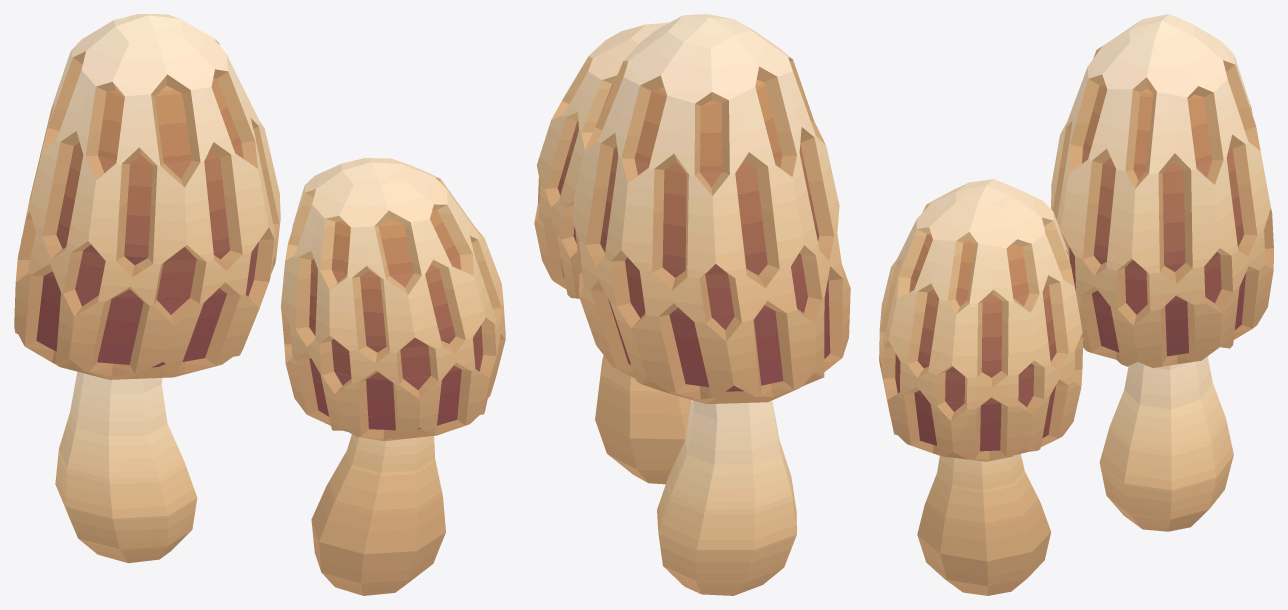
File: Morel_Bunch.glb
3 views of the same model, side by side, from view 1: azimuth 30°, elevation 25°; view 2: azimuth 150°, elevation 25°; view 3: azimuth 270°, elevation 25° (orthographic). The views are drawn at different scales.
Visible parts, largest first — view 1: Cube; view 2: Cube; view 3: Cube.
Part boxes in pixels (x1,y1,x2,y2): Cube: (14,14,505,595); Cube: (534,14,850,595); Cube: (879,14,1273,595).
Bounding box in the file's own units: 5.57 × 7.89 × 5.53.
1 material, 1 textured.
